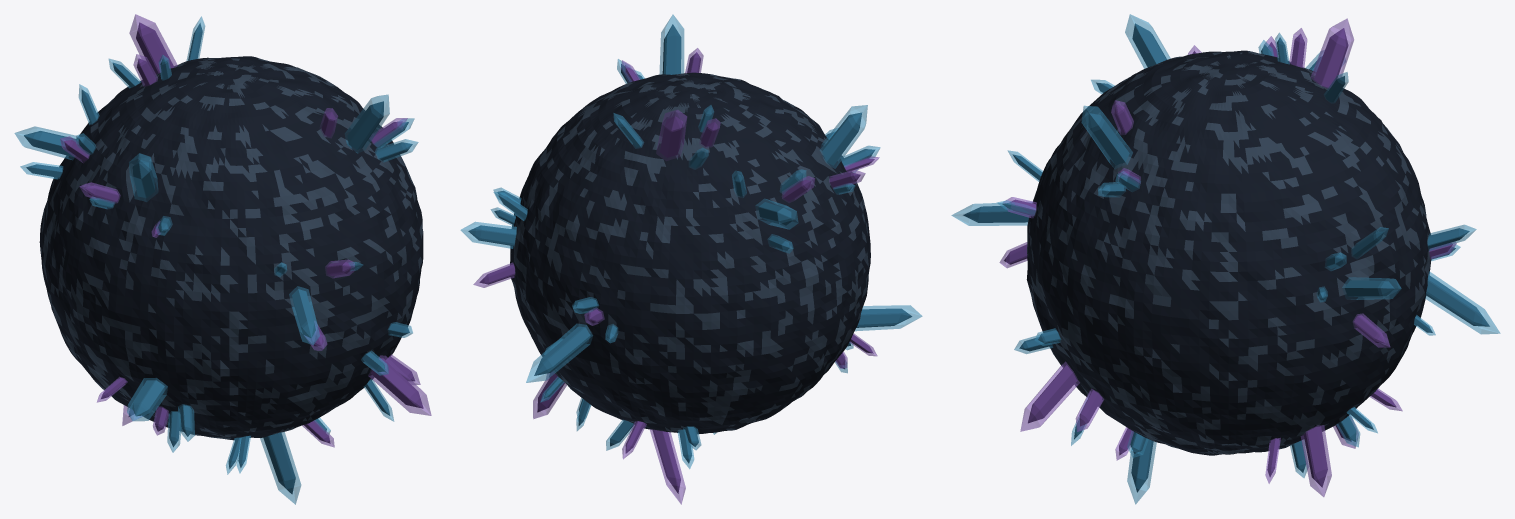
File: prisma.obj
The picture shows the model from 3 angles, left to right: view 1: azimuth 30°, elevation 25°; view 2: azimuth 150°, elevation 25°; view 3: azimuth 270°, elevation 25°; orthographic projection. The views are drawn at different scales.
Parts seen in each view (by area): view 1: Prisma_|_llanuras_de_basalto, Prisma_|_grupo_cristalino_03, Prisma_|_grupo_cristalino_10, Prisma_|_grupo_cristalino_01, Prisma_|_grupo_cristalino_06, Prisma_|_grupo_cristalino_05, Prisma_|_grupo_cristalino_11, Prisma_|_grupo_cristalino_09, Prisma_|_grupo_cristalino_12; view 2: Prisma_|_llanuras_de_basalto, Prisma_|_grupo_cristalino_07, Prisma_|_grupo_cristalino_09, Prisma_|_grupo_cristalino_01, Prisma_|_grupo_cristalino_02, Prisma_|_grupo_cristalino_08, Prisma_|_grupo_cristalino_05, Prisma_|_grupo_cristalino_03, Prisma_|_grupo_cristalino_06, Prisma_|_grupo_cristalino_04; view 3: Prisma_|_llanuras_de_basalto, Prisma_|_grupo_cristalino_10, Prisma_|_grupo_cristalino_02, Prisma_|_grupo_cristalino_01, Prisma_|_grupo_cristalino_03, Prisma_|_grupo_cristalino_08, Prisma_|_grupo_cristalino_12, Prisma_|_grupo_cristalino_04, Prisma_|_grupo_cristalino_11, Prisma_|_grupo_cristalino_09, Prisma_|_grupo_cristalino_07.
Part boxes in pixels (bbox=[...]): Prisma_|_llanuras_de_basalto: bbox=[39, 56, 423, 440]; Prisma_|_grupo_cristalino_03: bbox=[320, 94, 418, 162]; Prisma_|_grupo_cristalino_10: bbox=[361, 322, 431, 421]; Prisma_|_grupo_cristalino_01: bbox=[108, 14, 205, 88]; Prisma_|_grupo_cristalino_06: bbox=[97, 377, 194, 452]; Prisma_|_grupo_cristalino_05: bbox=[14, 84, 99, 179]; Prisma_|_grupo_cristalino_11: bbox=[226, 417, 334, 504]; Prisma_|_grupo_cristalino_09: bbox=[79, 153, 172, 237]; Prisma_|_grupo_cristalino_12: bbox=[274, 259, 363, 350]; Prisma_|_llanuras_de_basalto: bbox=[510, 72, 870, 433]; Prisma_|_grupo_cristalino_07: bbox=[606, 419, 701, 504]; Prisma_|_grupo_cristalino_09: bbox=[820, 105, 880, 194]; Prisma_|_grupo_cristalino_01: bbox=[613, 105, 720, 169]; Prisma_|_grupo_cristalino_02: bbox=[526, 297, 617, 382]; Prisma_|_grupo_cristalino_08: bbox=[460, 187, 527, 287]; Prisma_|_grupo_cristalino_05: bbox=[732, 169, 814, 253]; Prisma_|_grupo_cristalino_03: bbox=[617, 14, 703, 83]; Prisma_|_grupo_cristalino_06: bbox=[835, 305, 922, 373]; Prisma_|_grupo_cristalino_04: bbox=[533, 371, 591, 430]; Prisma_|_llanuras_de_basalto: bbox=[1026, 50, 1431, 455]; Prisma_|_grupo_cristalino_10: bbox=[1014, 328, 1103, 445]; Prisma_|_grupo_cristalino_02: bbox=[1414, 224, 1500, 335]; Prisma_|_grupo_cristalino_01: bbox=[1275, 18, 1353, 103]; Prisma_|_grupo_cristalino_03: bbox=[1081, 100, 1140, 197]; Prisma_|_grupo_cristalino_08: bbox=[1316, 227, 1401, 347]; Prisma_|_grupo_cristalino_12: bbox=[951, 150, 1042, 268]; Prisma_|_grupo_cristalino_04: bbox=[1265, 407, 1377, 496]; Prisma_|_grupo_cristalino_11: bbox=[1115, 427, 1156, 504]; Prisma_|_grupo_cristalino_09: bbox=[1091, 14, 1201, 93]; Prisma_|_grupo_cristalino_07: bbox=[1333, 388, 1402, 448].
Size of the model in its own units: 2.06 by 2.49 by 2.73.
